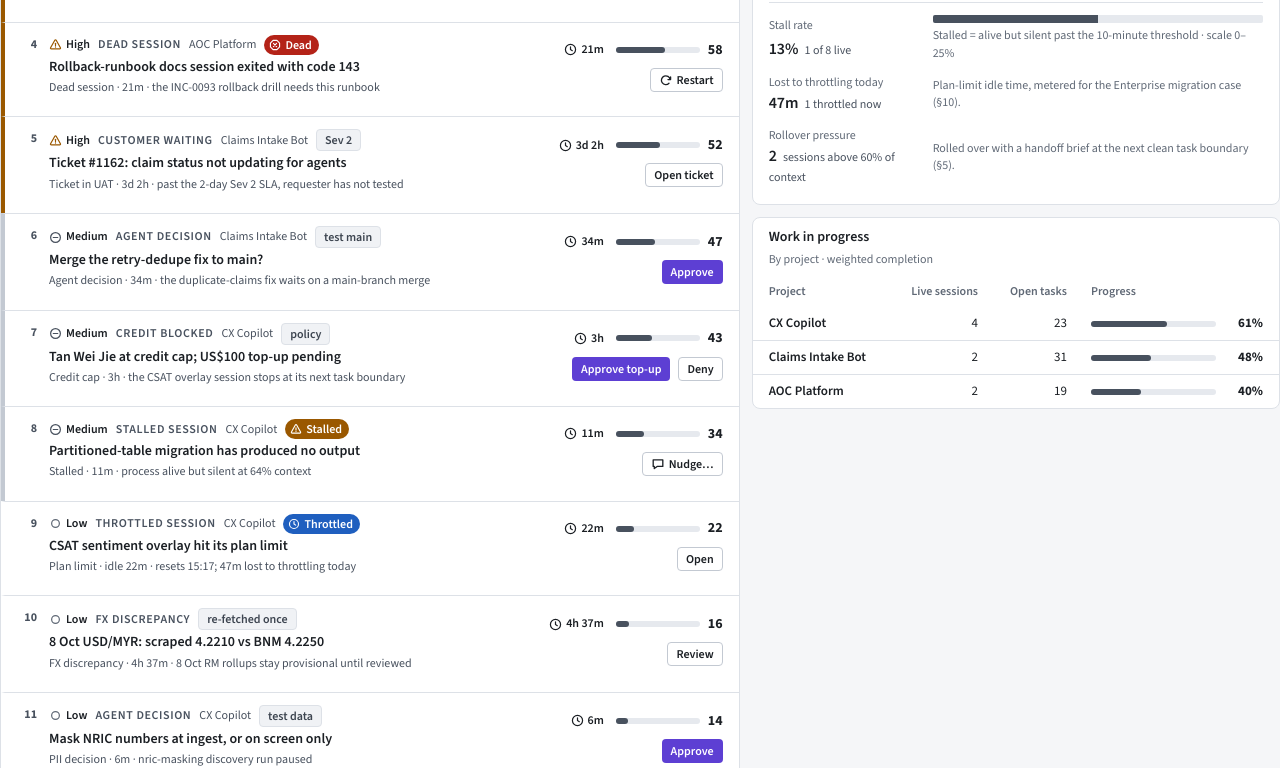
Test case: Control Tower page › denies with the explicit refusal option
This screenshot has width=1280, height=768.
(page scrolled)
expect the button "Approve top-up" is enabled: met, box [572,357,670,381]
Click the button "Deny" at (701, 369), box [678,357,723,381]
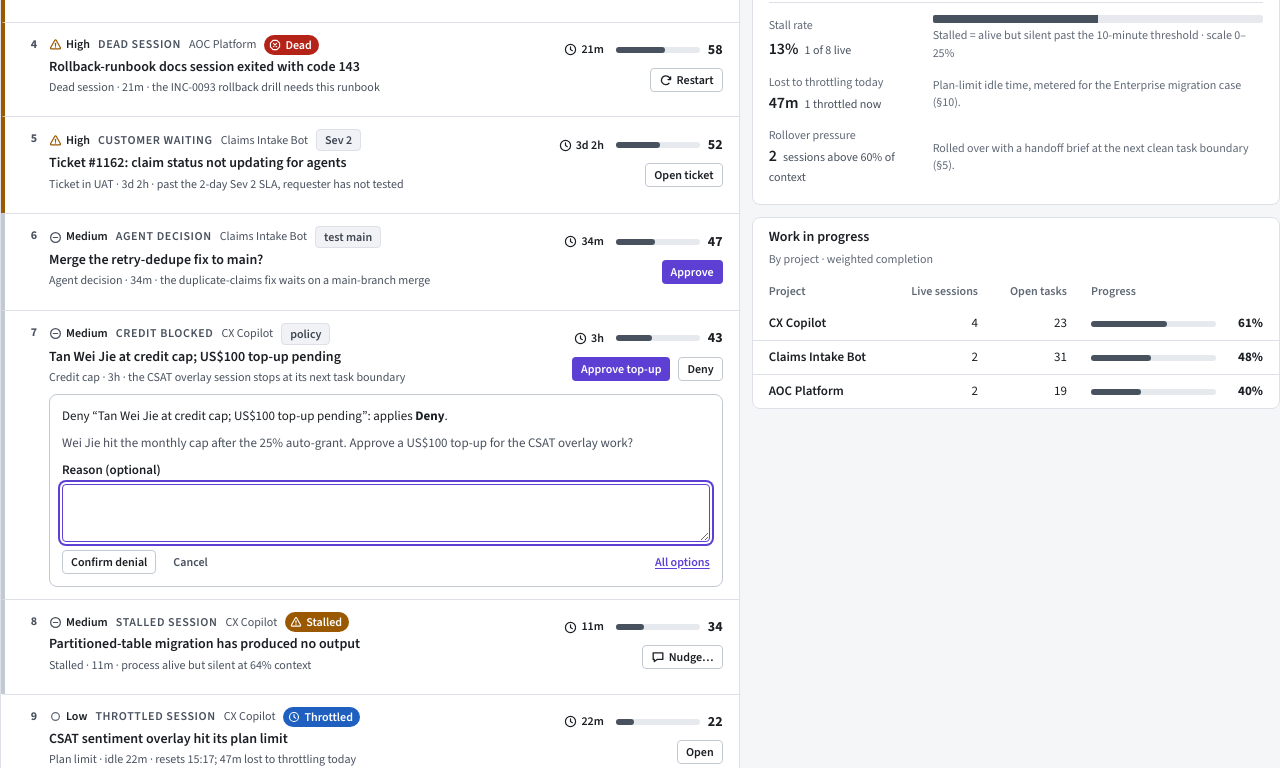
expect the element that starts with "Deny" shows "applies Deny.": met, box [62,407,710,574]
Click the button "Confirm denial" at (109, 562), box [62,550,156,574]
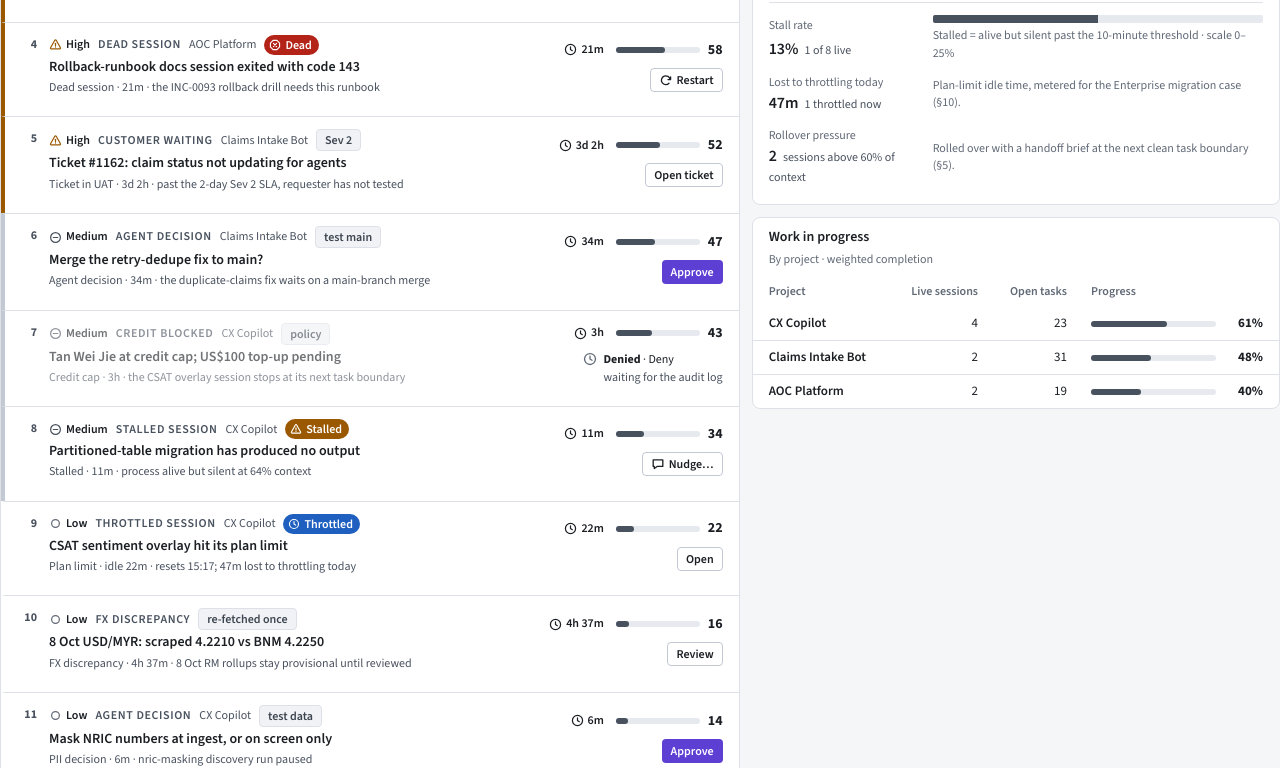
expect the message shows "Denied · Deny": met, box [584,351,723,386]
